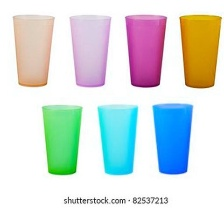glass: (8, 9, 61, 91), (144, 99, 199, 178), (64, 8, 114, 92), (34, 98, 85, 180), (120, 10, 170, 93), (90, 98, 140, 180), (174, 11, 223, 92)
